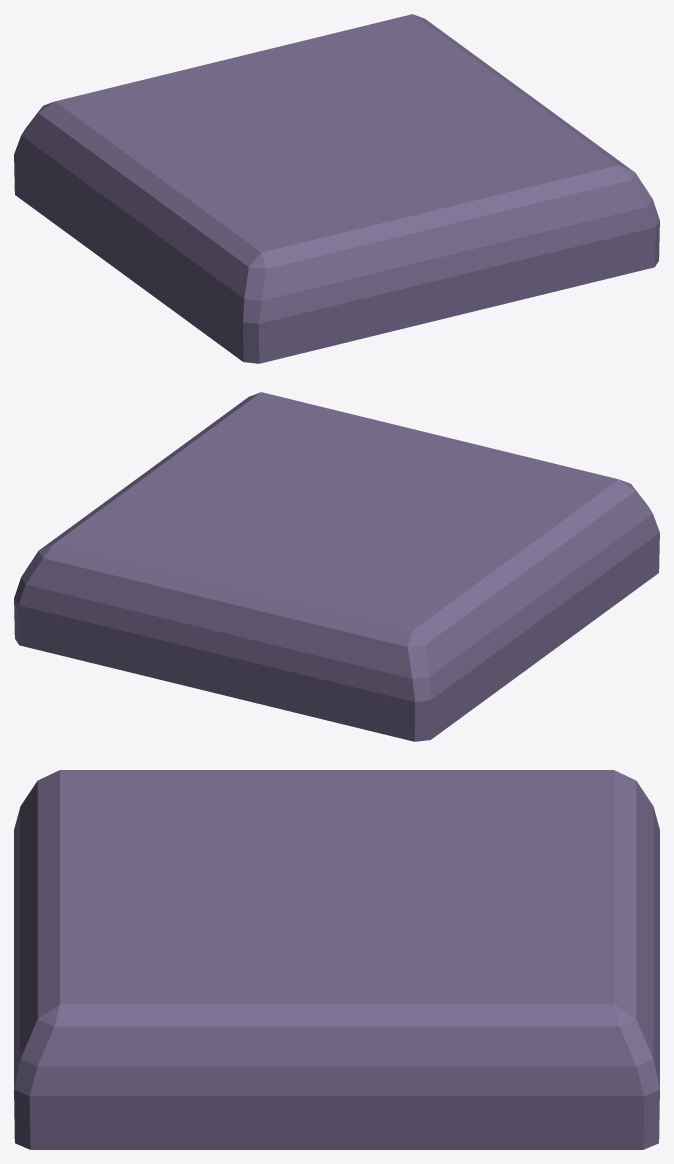
Rendered from Floor.fbx.
The picture shows the model from 3 angles, top to bottom: view 1: azimuth 30°, elevation 25°; view 2: azimuth 150°, elevation 25°; view 3: azimuth 270°, elevation 25°; orthographic projection. The views are drawn at different scales.
Visible parts, largest first — view 1: Plane; view 2: Plane; view 3: Plane.
Boxes of the visible parts, x1,y1,x2,y2 form: Plane: (14, 14, 659, 363); Plane: (14, 392, 659, 741); Plane: (14, 770, 659, 1149).
Bounding box in the file's own units: 1103 × 239 × 1103.
